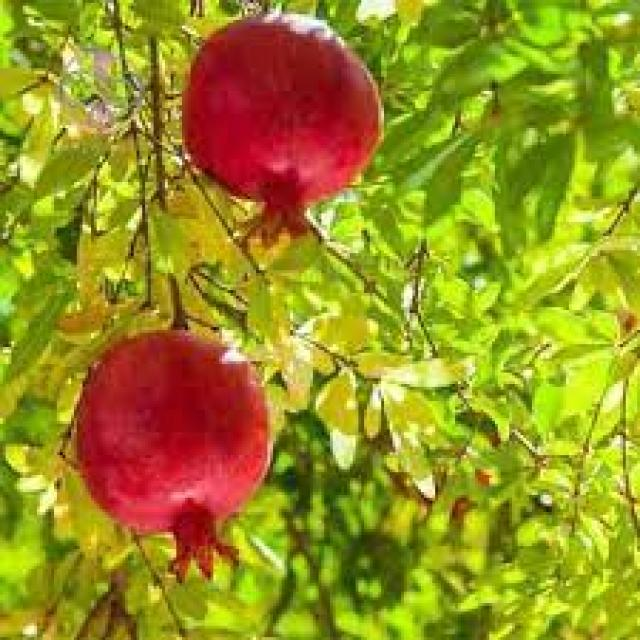pomegranate: (71, 330, 273, 586), (179, 12, 387, 245)
